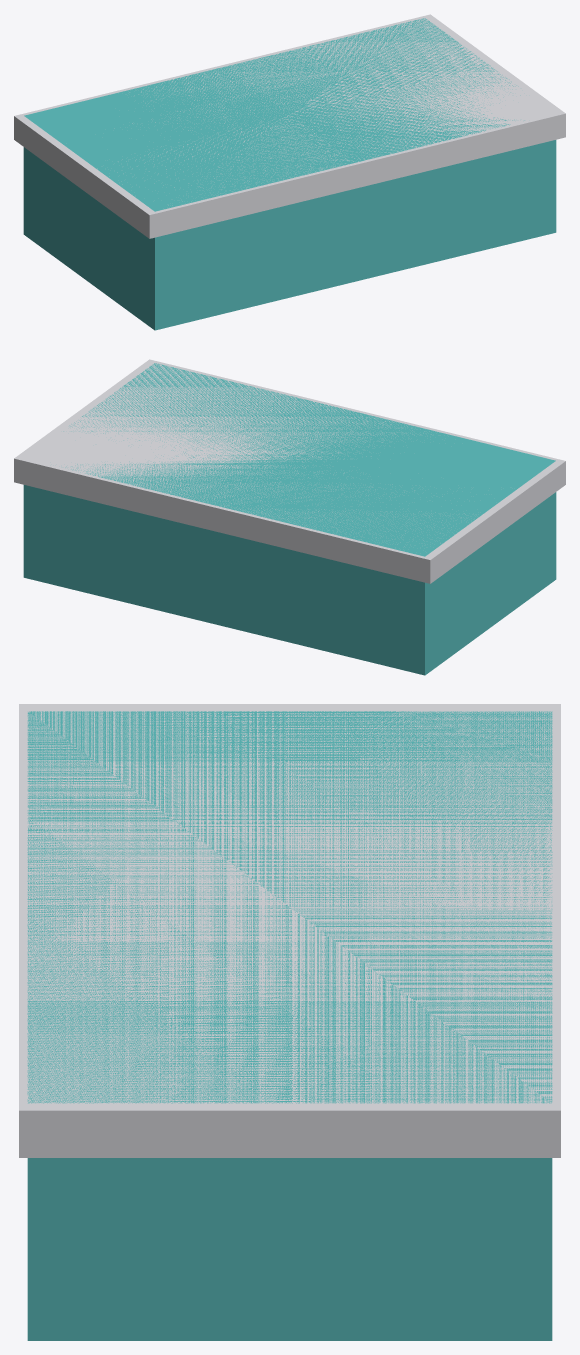
File: yoga_cintura.glb
3 renders of one model, top to bottom at view 1: azimuth 30°, elevation 25°; view 2: azimuth 150°, elevation 25°; view 3: azimuth 270°, elevation 25°, orthographic. The views are drawn at different scales.
Visible parts, largest first — view 1: yoga_cintura; view 2: yoga_cintura; view 3: yoga_cintura.
Part boxes in pixels (bbox=[...]): yoga_cintura: bbox=[14, 14, 565, 330]; yoga_cintura: bbox=[14, 359, 565, 675]; yoga_cintura: bbox=[19, 704, 560, 1340].
Bounding box in the file's own units: 0.55 × 0.15 × 0.31.
